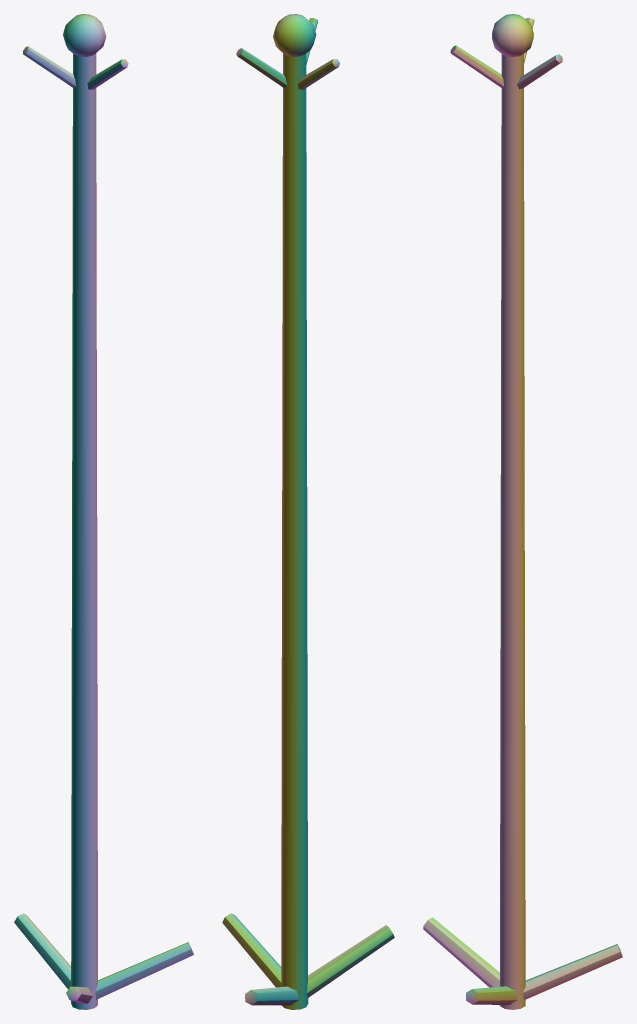
The model's file is coat_stand.glb.
3 renders of one model, left to right at view 1: azimuth 30°, elevation 25°; view 2: azimuth 150°, elevation 25°; view 3: azimuth 270°, elevation 25°, orthographic.
Visible parts, largest first — view 1: hall_coat_stand; view 2: hall_coat_stand; view 3: hall_coat_stand.
Part boxes in pixels (<box>): hall_coat_stand: <box>14,14,193,1009</box>; hall_coat_stand: <box>222,14,394,1009</box>; hall_coat_stand: <box>423,14,622,1009</box>.
Size of the model in its own units: 0.3525 by 2.25 by 0.4106.
